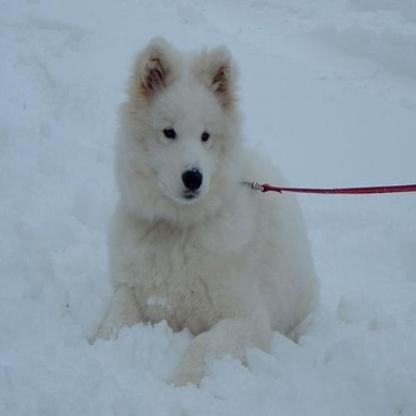Samoyed: (83, 34, 320, 390)
